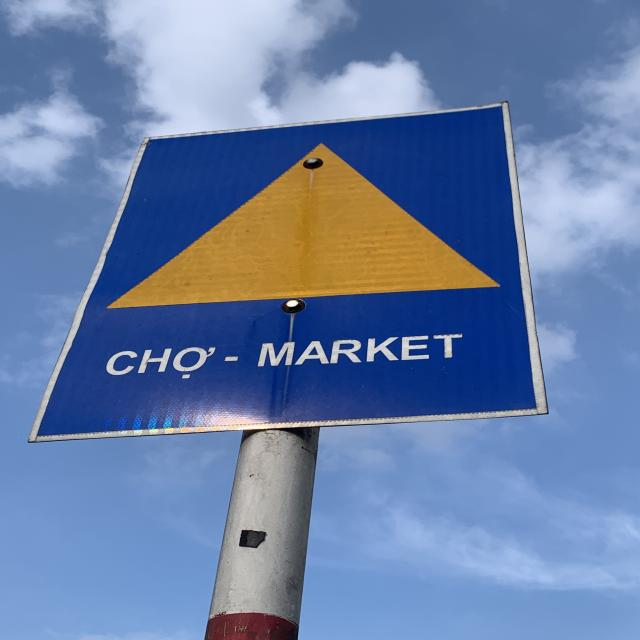Cho_Quay_Xe: (35, 100, 545, 438)
